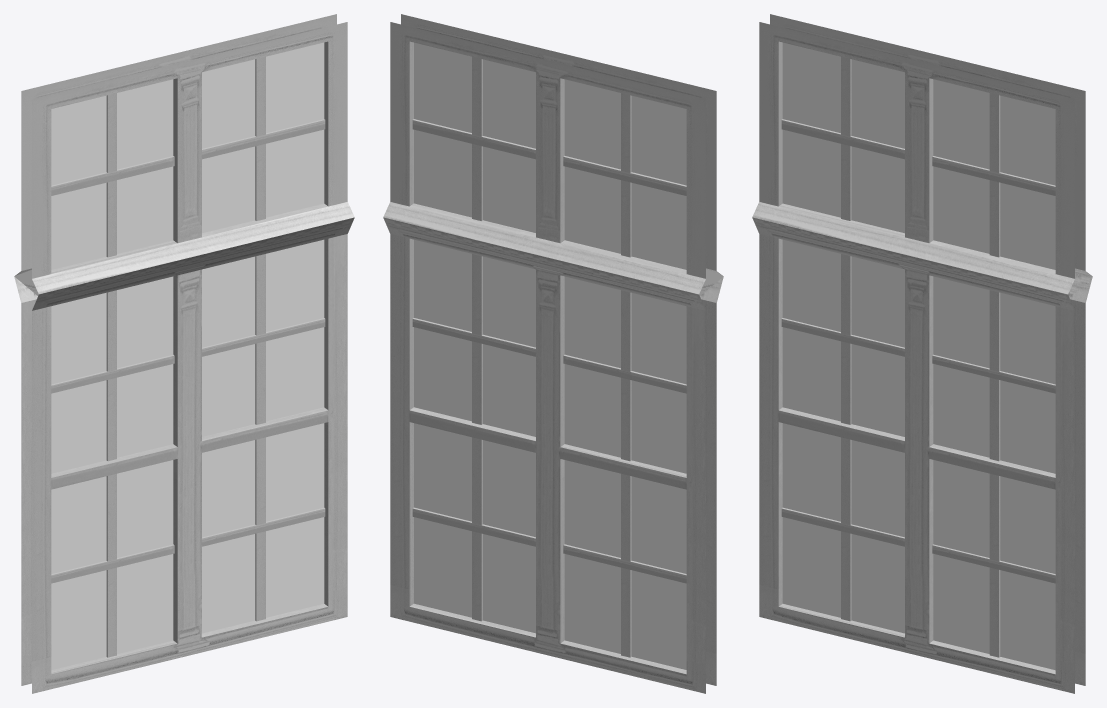
Rendered from Window1B.fbx.
The picture shows the model from 3 angles, left to right: view 1: azimuth 30°, elevation 25°; view 2: azimuth 150°, elevation 25°; view 3: azimuth 330°, elevation 25°; orthographic projection.
Parts seen in each view (by area): view 1: Window1B; view 2: Window1B; view 3: Window1B.
Boxes of the visible parts, left/top/right/bottom form: Window1B: left=14, top=14, right=354, bottom=693; Window1B: left=383, top=14, right=723, bottom=693; Window1B: left=752, top=14, right=1092, bottom=693.
Size of the model in its own units: 100 by 180 by 13.57.
